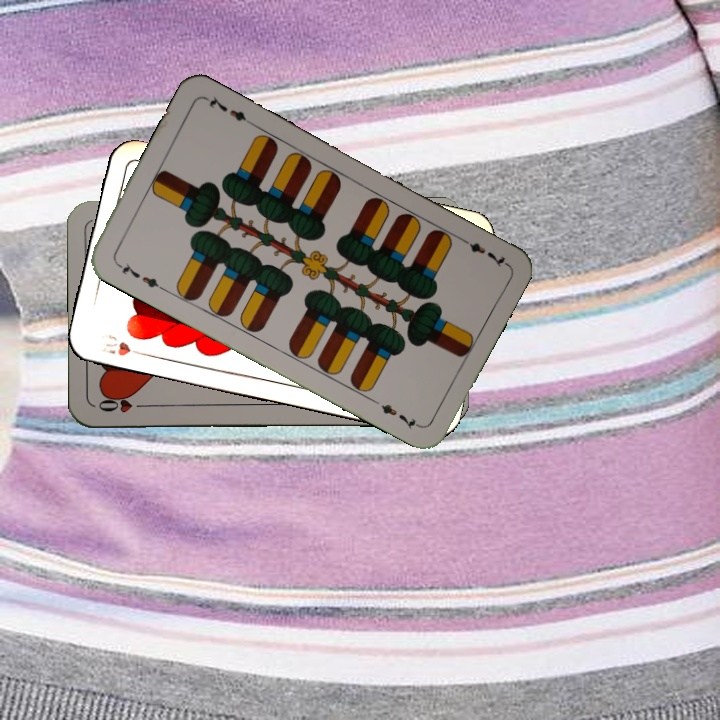E7: (455, 232, 509, 270), (112, 258, 166, 293)
H10: (95, 331, 150, 359)
HO: (94, 393, 152, 416)
